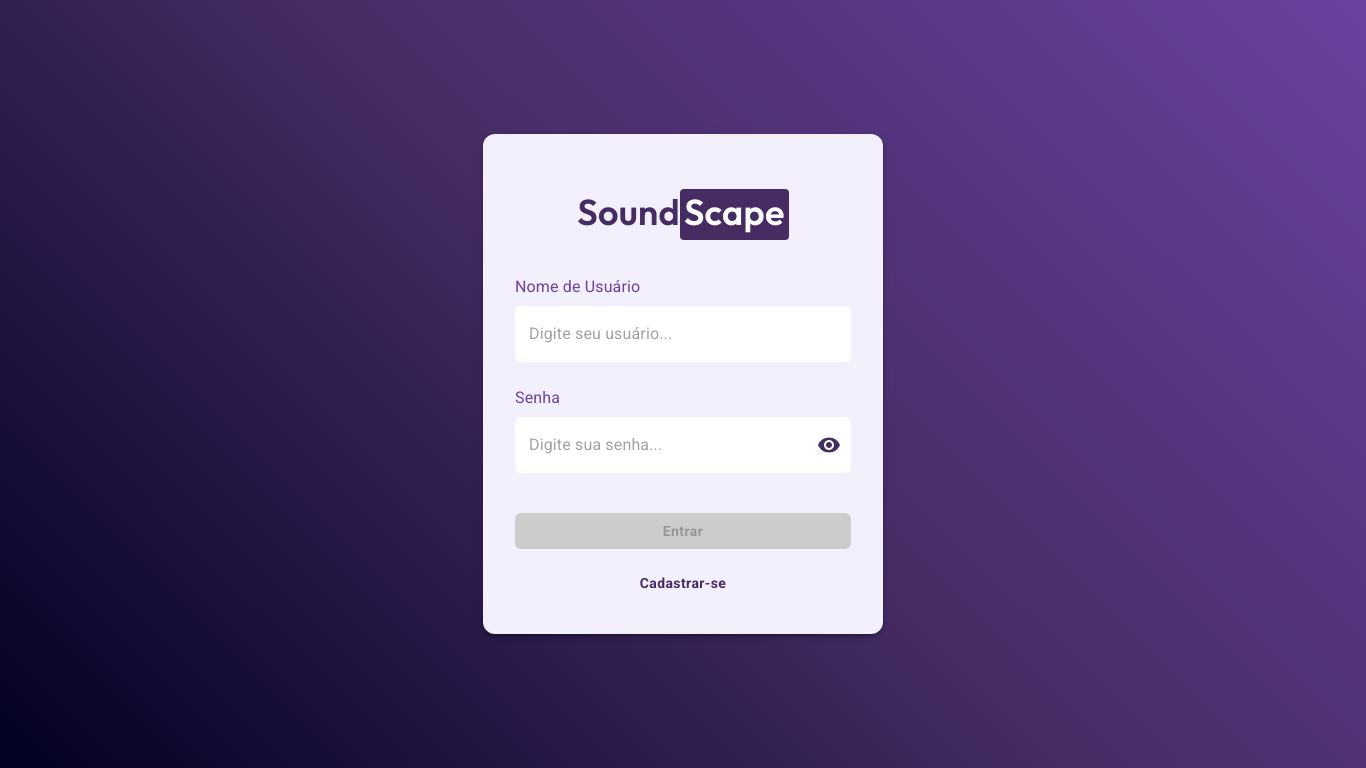
Test: Login Component › deve habilitar o botão "Entrar" quando os campos estão preenchidos
Type "user" into the field labelled "Nome de Usuário" at (683, 334), box [515, 306, 851, 362]
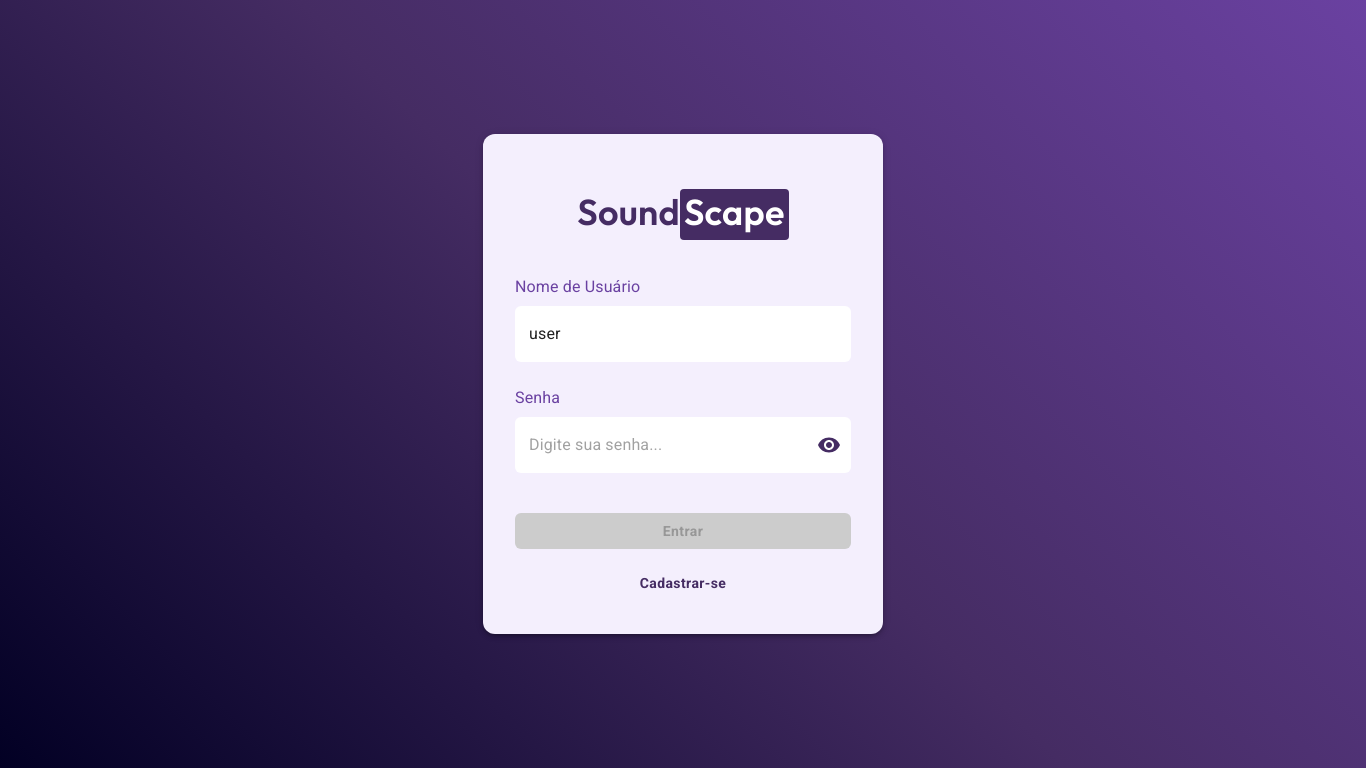
Type "password" into the password field labelled "Senha" at (658, 445), box [515, 417, 801, 473]
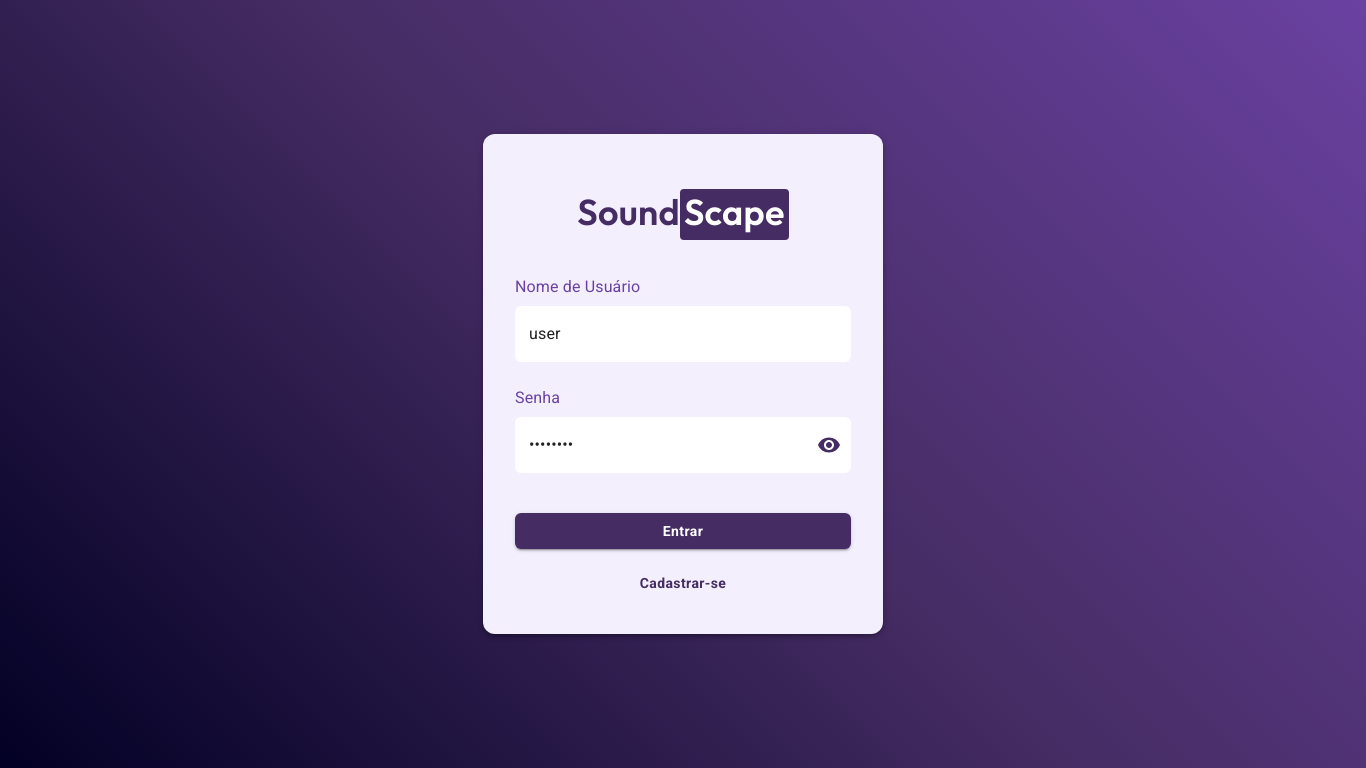
Now the button "Entrar" is enabled, box [515, 513, 851, 549]
